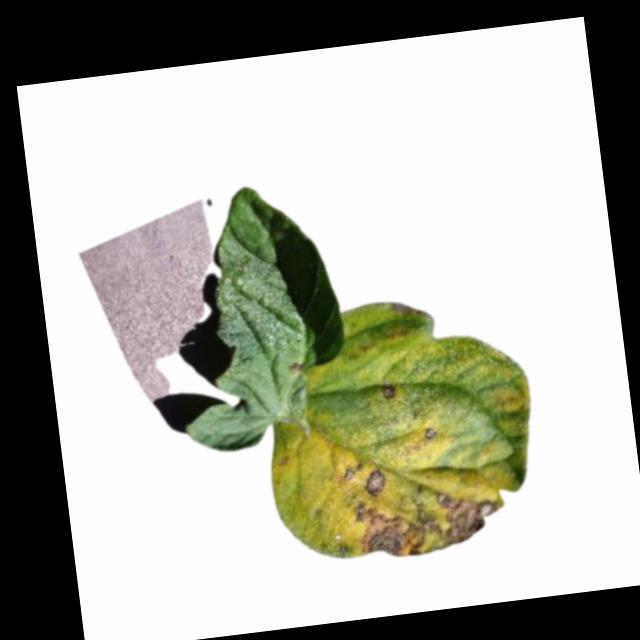Early_blight: (348, 484, 506, 565), (340, 460, 368, 483), (364, 476, 385, 501), (379, 385, 396, 402), (288, 360, 303, 375), (425, 429, 438, 444)
